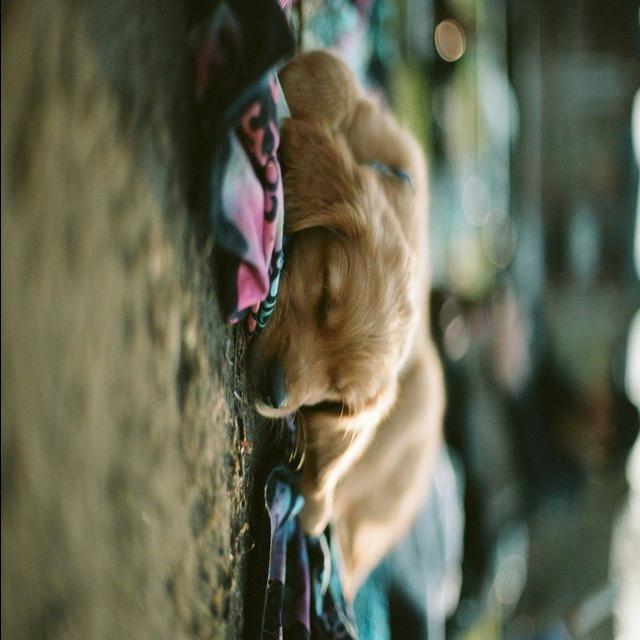retriever: (245, 48, 447, 604)
